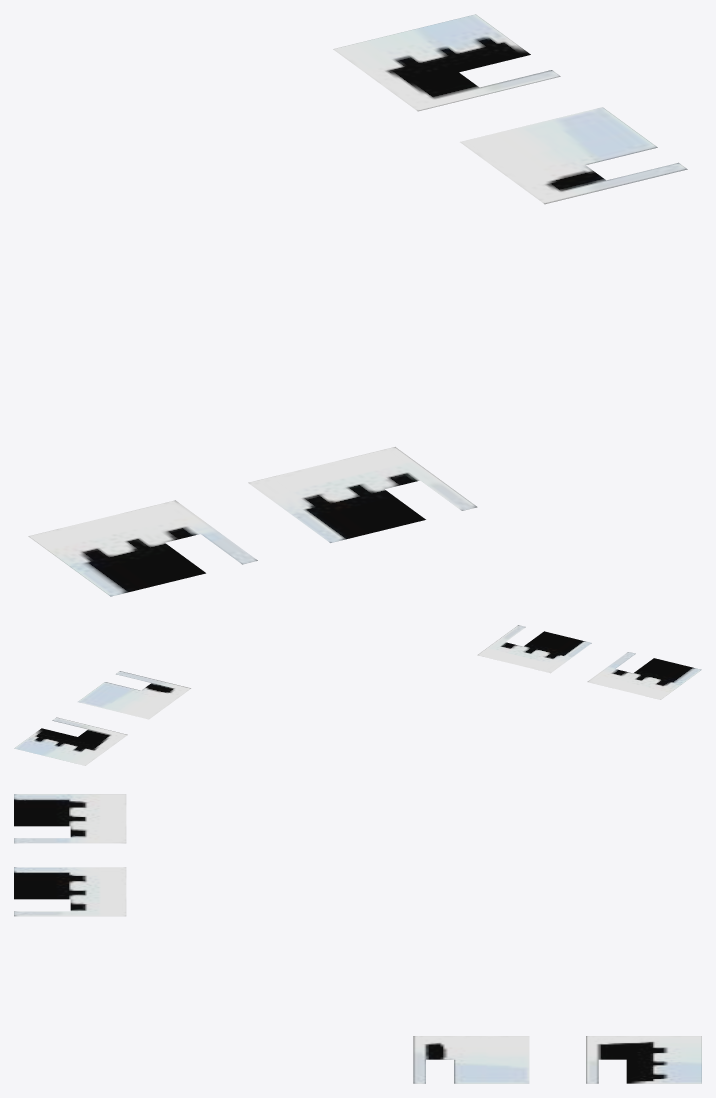
The picture shows the model from 3 angles, top to bottom: view 1: azimuth 30°, elevation 25°; view 2: azimuth 150°, elevation 25°; view 3: azimuth 270°, elevation 25°; orthographic projection. The views are drawn at different scales.
Visible parts, largest first — view 1: f02; view 2: f02; view 3: f02.
Boxes of the visible parts, left/top/right/bottom form: f02: left=28, top=14, right=687, bottom=596; f02: left=14, top=625, right=701, bottom=765; f02: left=14, top=794, right=701, bottom=1083.
Size of the model in its own units: 1217 by 0.2553 by 1224.
